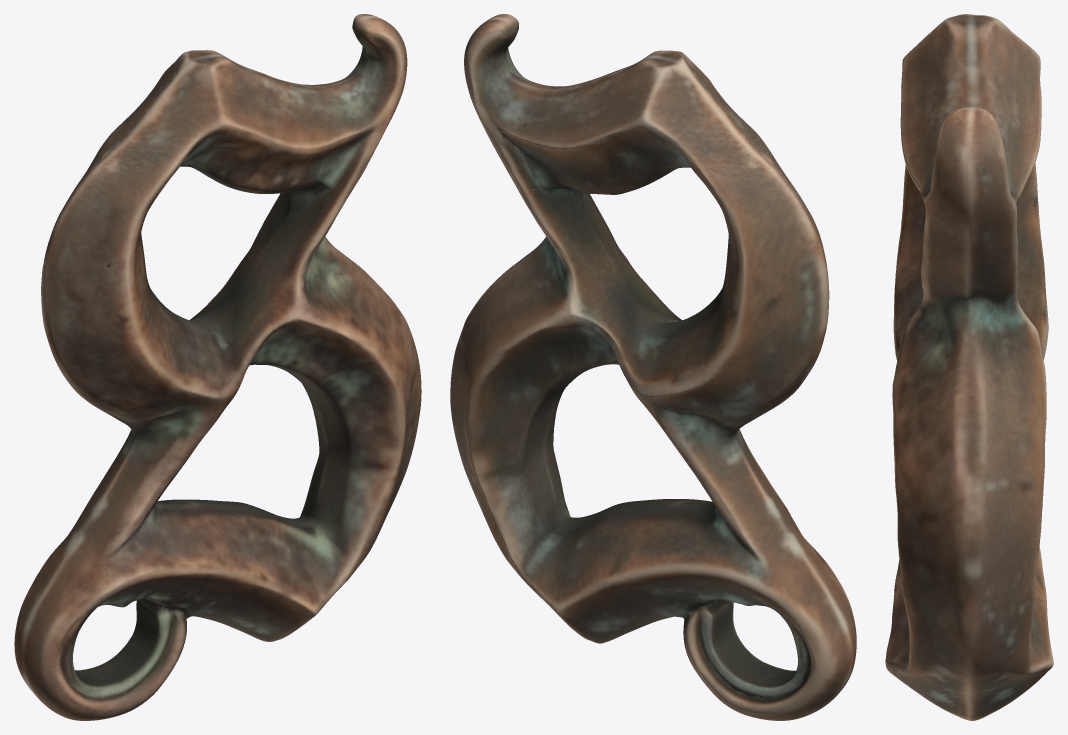
Rendered from Meshy_AI_Ornate_Bronze_S_Monog_0721172040_texture.fbx.
3 views of the same model, side by side, from view 1: azimuth 30°, elevation 25°; view 2: azimuth 150°, elevation 25°; view 3: azimuth 270°, elevation 25° (orthographic). The views are drawn at different scales.
Parts seen in each view (by area): view 1: Mesh_0; view 2: Mesh_0; view 3: Mesh_0.
Boxes of the visible parts, x1,y1,x2,y2 form: Mesh_0: [14, 14, 421, 720]; Mesh_0: [450, 14, 856, 720]; Mesh_0: [885, 14, 1053, 720].
Bounding box in the file's own units: 132 × 200 × 43.65.
1 material, 1 textured.
